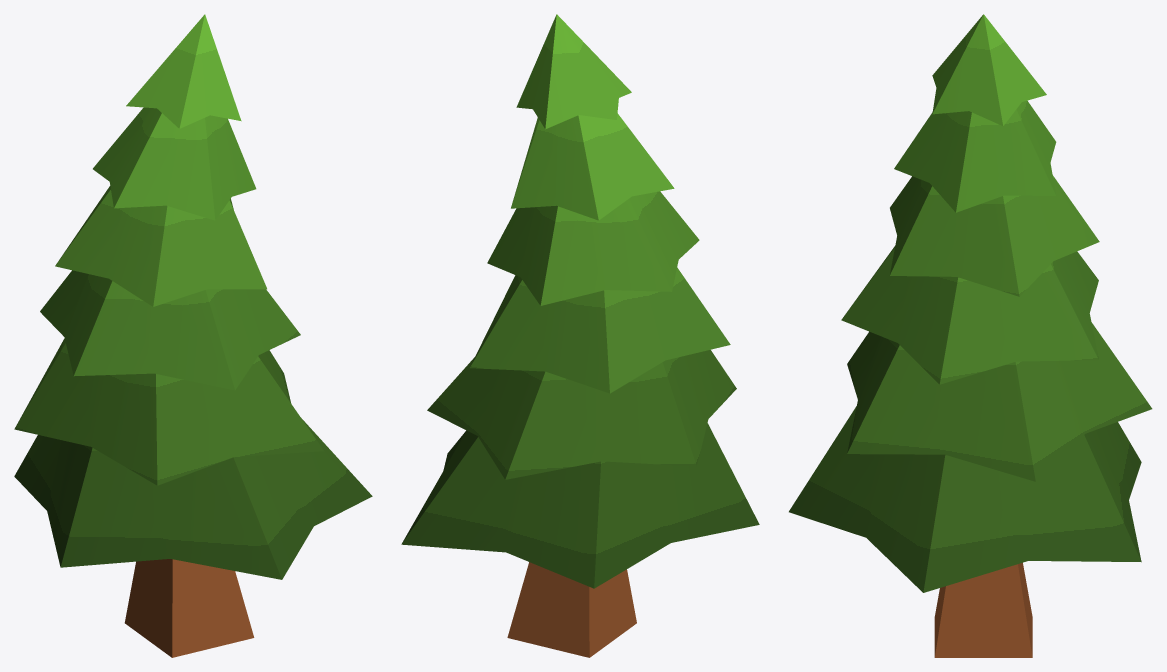
Rendered from tree-1.fbx.
3 views of the same model, side by side, from view 1: azimuth 30°, elevation 25°; view 2: azimuth 150°, elevation 25°; view 3: azimuth 270°, elevation 25° (orthographic). The views are drawn at different scales.
Parts seen in each view (by area): view 1: Cube.003; view 2: Cube.003; view 3: Cube.003.
Part boxes in pixels (x1,y1,x2,y2): Cube.003: [14, 14, 372, 657]; Cube.003: [401, 14, 759, 657]; Cube.003: [789, 14, 1152, 657].
Size of the model in its own units: 276 by 518 by 271.
